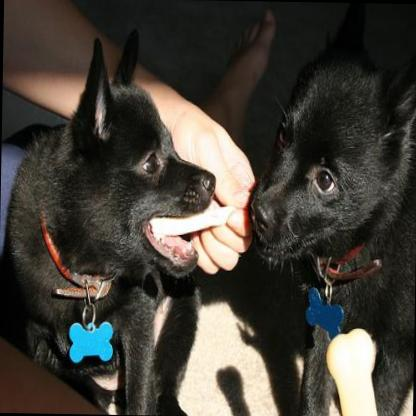schipperke: (0, 19, 218, 413), (242, 1, 416, 416)
